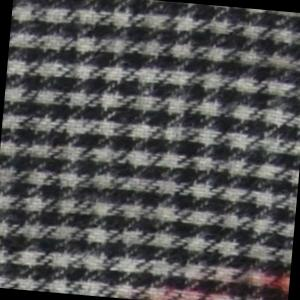Stain: (142, 252, 292, 300)
